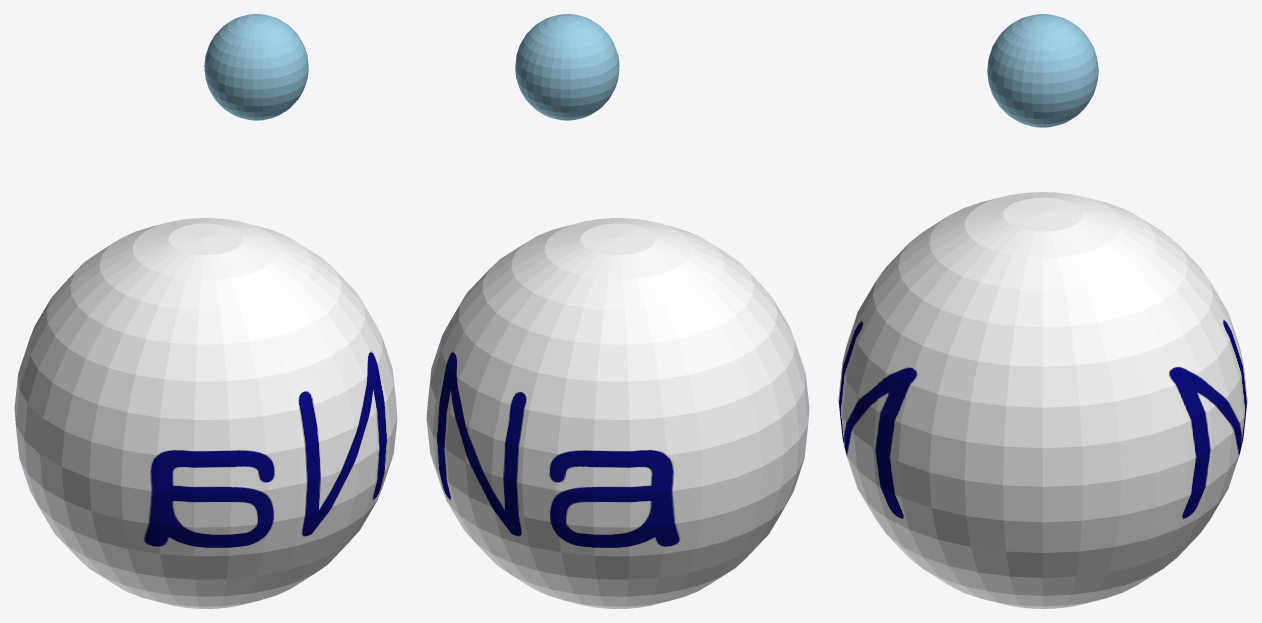
File: натрий.fbx
The picture shows the model from 3 angles, left to right: view 1: azimuth 30°, elevation 25°; view 2: azimuth 150°, elevation 25°; view 3: azimuth 270°, elevation 25°; orthographic projection. The views are drawn at different scales.
Parts seen in each view (by area): view 1: Sphere, Sphere.001; view 2: Sphere, Sphere.001; view 3: Sphere, Sphere.001.
Part boxes in pixels (<box>): Sphere: <box>14,218,397,608</box>; Sphere.001: <box>204,14,308,120</box>; Sphere: <box>426,218,809,608</box>; Sphere.001: <box>515,14,619,120</box>; Sphere: <box>838,192,1247,608</box>; Sphere.001: <box>987,14,1098,127</box>.
Bounding box in the file's own units: 283 × 454 × 283.
